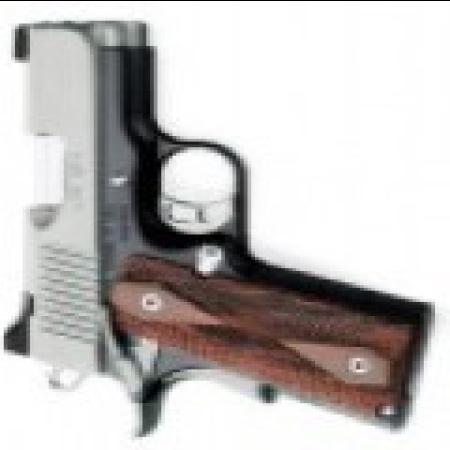Pistol: (7, 23, 423, 447)
